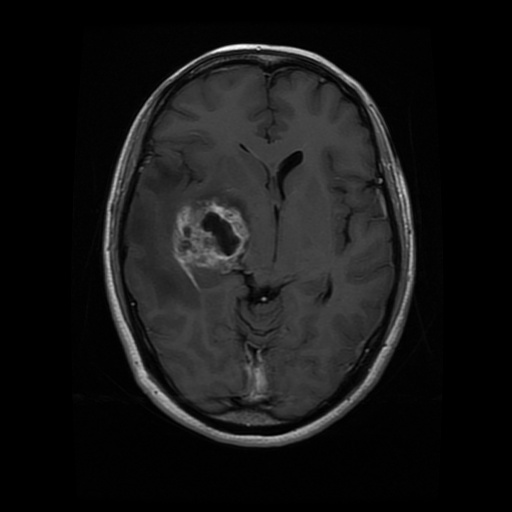glioma: (169, 196, 254, 288)
